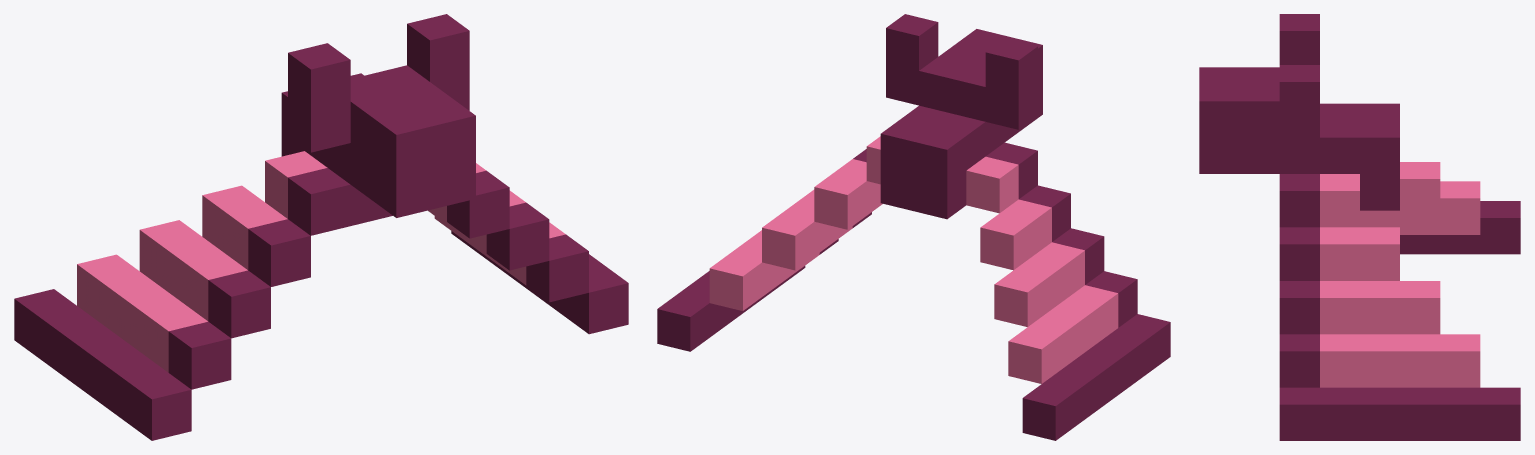
File: bat_walk_2.obj
The picture shows the model from 3 angles, left to right: view 1: azimuth 30°, elevation 25°; view 2: azimuth 150°, elevation 25°; view 3: azimuth 270°, elevation 25°; orthographic projection. The views are drawn at different scales.
Size of the model in its own units: 1.2 by 0.8 by 0.8.
1 material, 1 textured.
